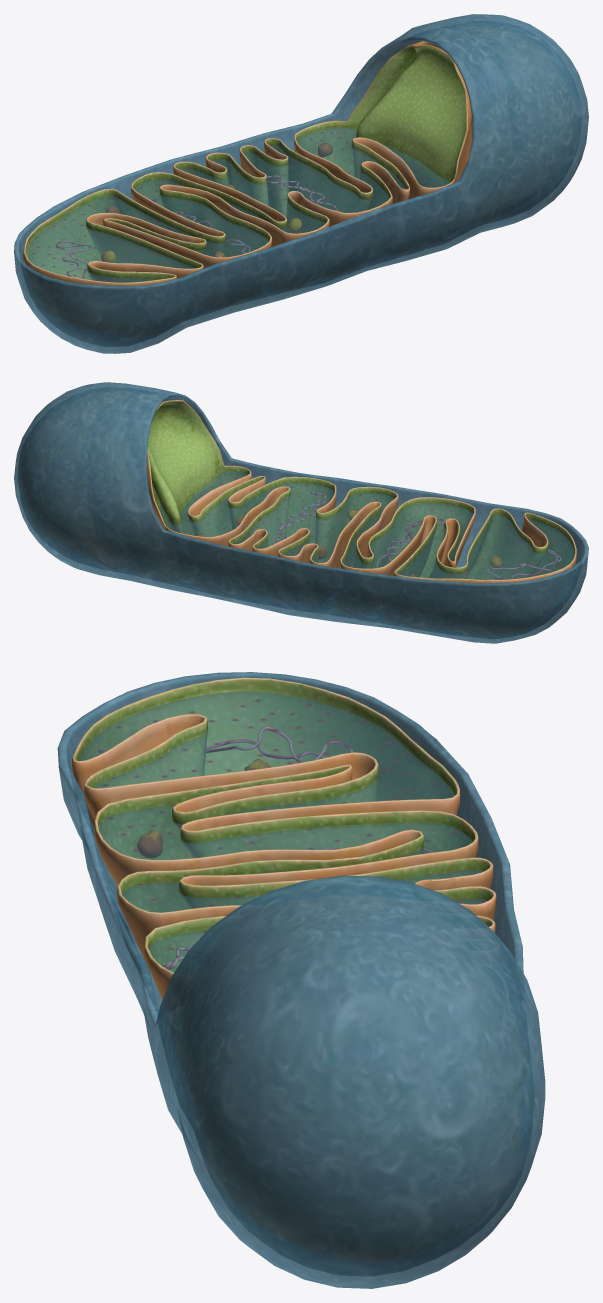
Rendered from mitochondria-transformed.glb.
The picture shows the model from 3 angles, top to bottom: view 1: azimuth 30°, elevation 25°; view 2: azimuth 150°, elevation 25°; view 3: azimuth 270°, elevation 25°; orthographic projection. The views are drawn at different scales.
Parts seen in each view (by area): view 1: shell, cristae, matrix; view 2: shell, cristae, matrix, dna_01; view 3: shell, cristae, matrix, dna_01.
Boxes of the visible parts, x1,y1,x2,y2 form: shell: (14, 14, 588, 353); cristae: (22, 41, 472, 285); matrix: (28, 127, 450, 282); shell: (14, 382, 588, 643); cristae: (147, 400, 576, 583); matrix: (159, 471, 574, 580); dna_01: (486, 549, 561, 580); shell: (57, 672, 545, 1288); cristae: (72, 677, 496, 999); matrix: (79, 691, 486, 972); dna_01: (206, 727, 352, 762).
Bounding box in the file's own units: 187 × 62.12 × 75.56.
Materials: 1 (1 with a texture image).
